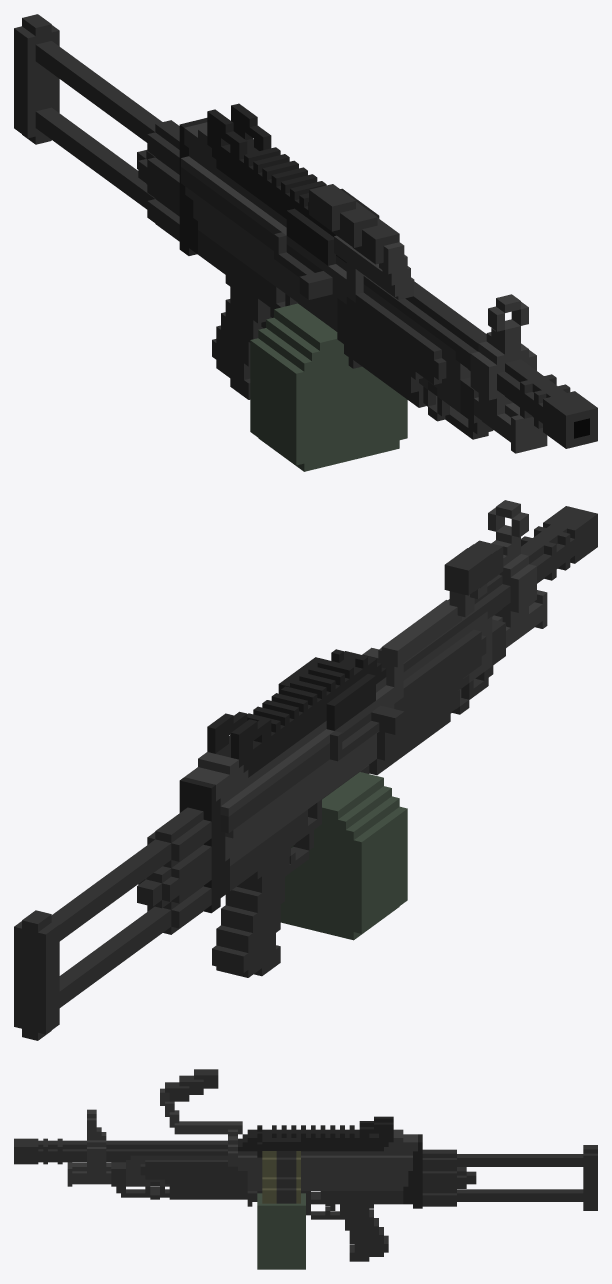
Rendered from LMG_1.obj.
3 renders of one model, top to bottom at view 1: azimuth 30°, elevation 25°; view 2: azimuth 150°, elevation 25°; view 3: azimuth 270°, elevation 25°, orthographic. The views are drawn at different scales.
Bounding box in the file's own units: 17 × 38 × 120.
